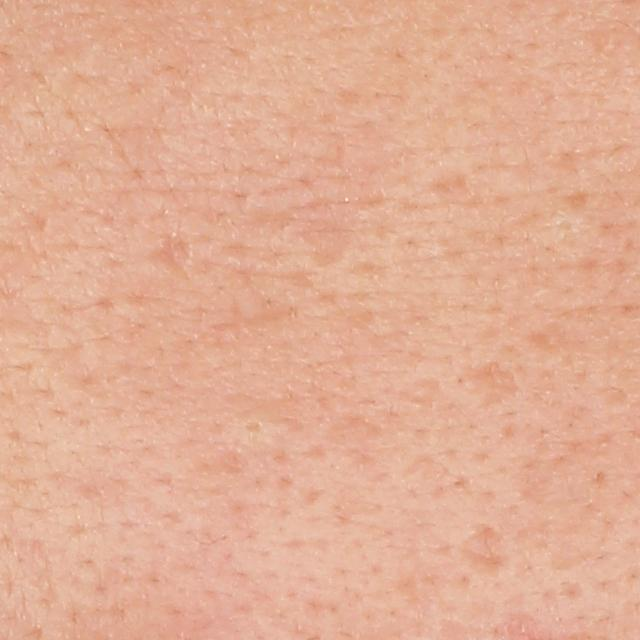atrophic_scar: (250, 194, 395, 273), (448, 519, 514, 575), (145, 208, 194, 280), (464, 360, 518, 413)
comedo: (237, 407, 278, 442)
